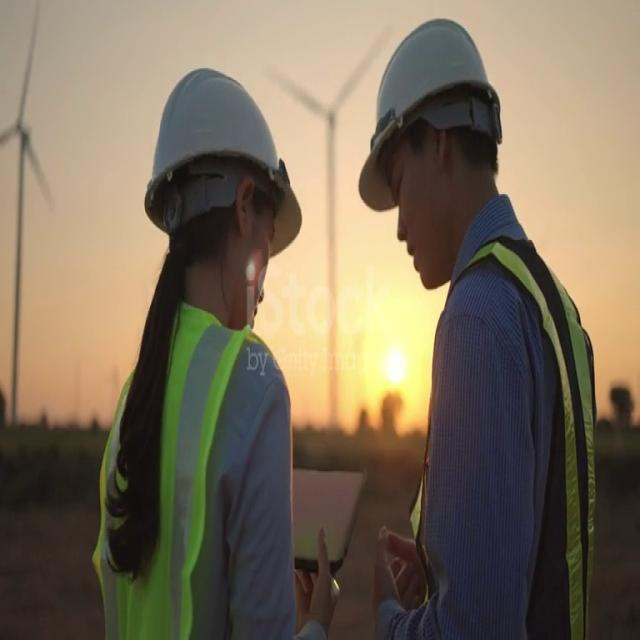capacete: (142, 61, 312, 262), (353, 12, 507, 232)
